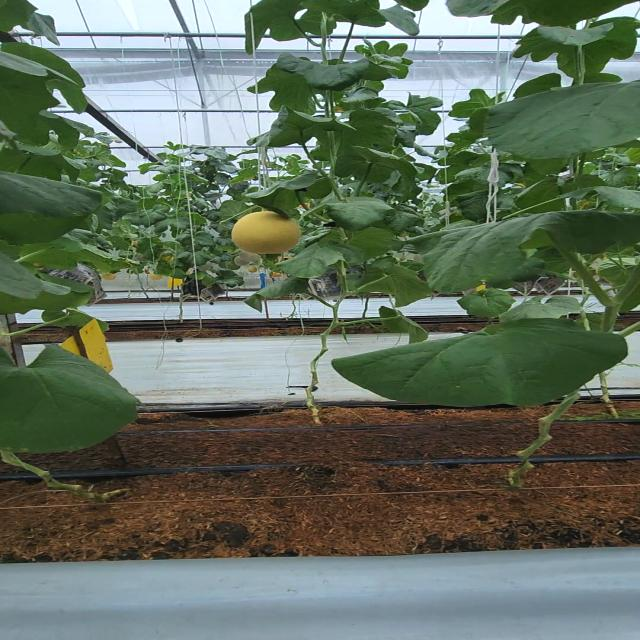Rear-melon: (232, 212, 304, 252)
